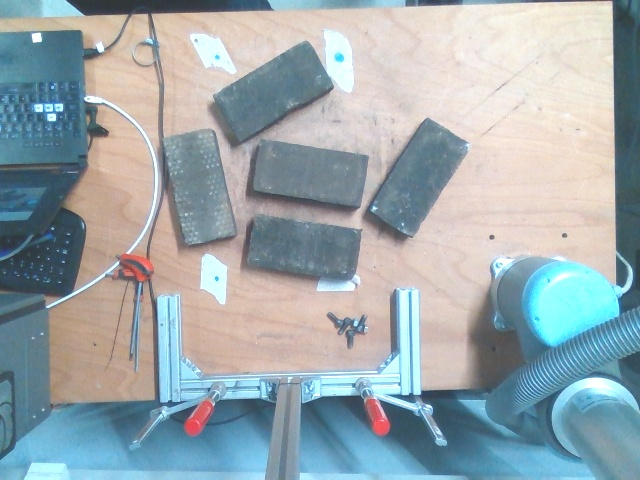brick: (369, 117, 468, 235), (214, 44, 326, 135), (165, 131, 232, 241), (245, 215, 362, 277), (255, 143, 362, 202)
